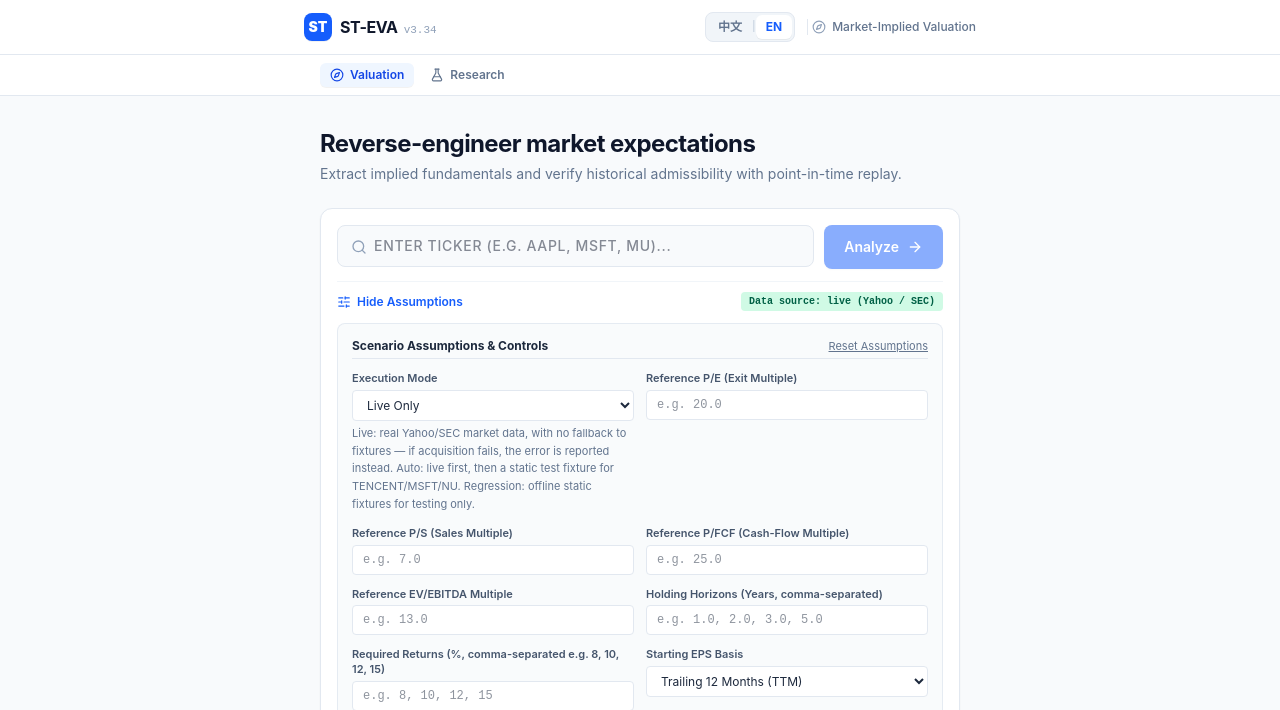
Test: default execution mode and assumptions discoverability › keeps regression an explicit choice that stays clearly identified
The image size is (1280, 710).
Select "Regression Fixture (Offline Test)" in the dropdown below "Execution Mode" at (493, 405), box [352,390,634,421]
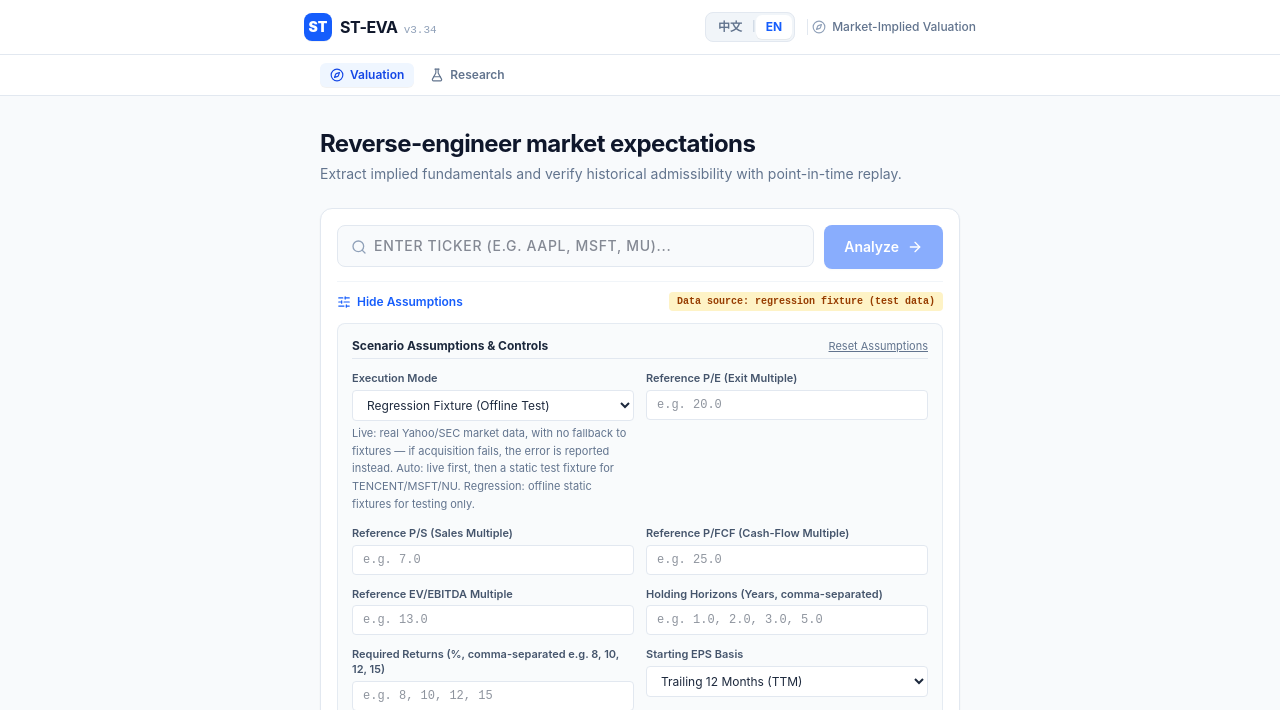
expect the text with test id "mode-badge" shows "regression fixture": met, box [677,296,935,307]
Type "MSFT" into the field with placeholder "Enter ticker (e.g. AAPL, MSFT, MU)..." at (576, 246), box [337,225,814,267]
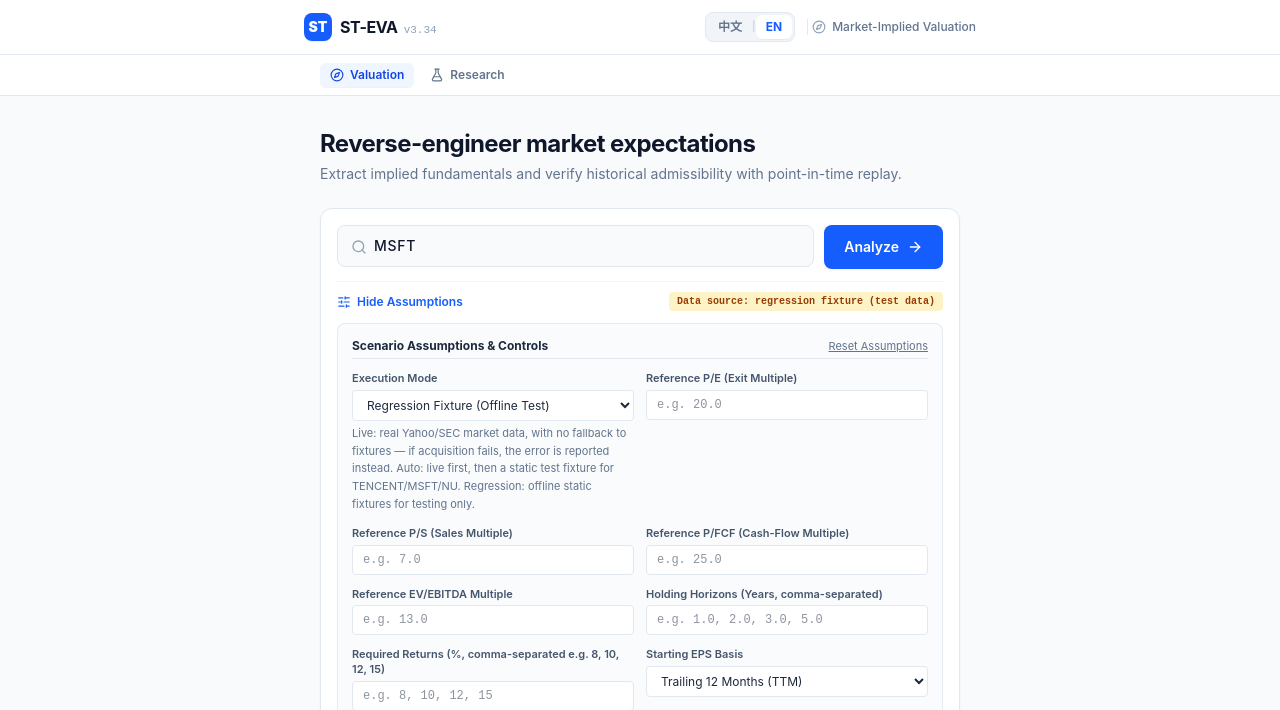
Click the button "Analyze" at (884, 247), box [824,225,943,269]
(page scrolled)
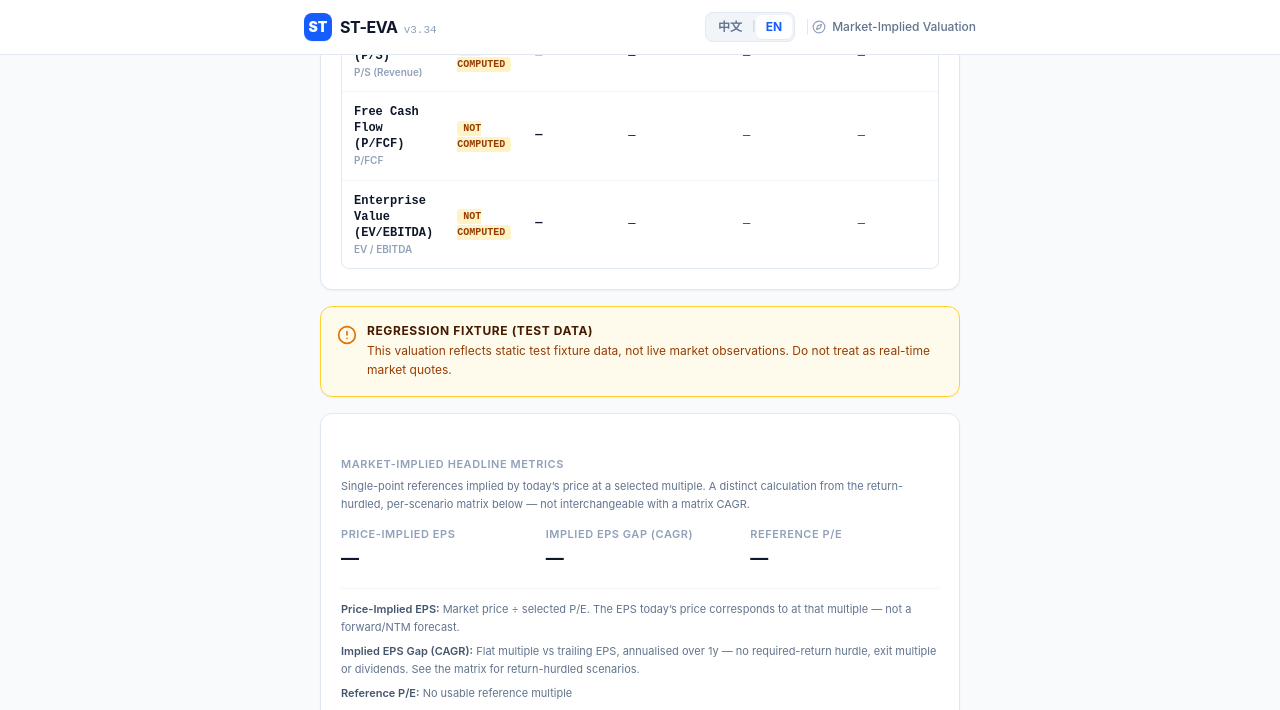
expect the text "REGRESSION FIXTURE (TEST DATA)" is shown: met, box [367,323,593,338]
expect the text "static test fixture data, not live market observations" is shown: met, box [367,343,930,377]
